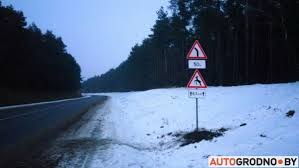1.11.2: (186, 36, 206, 57)
1.25: (189, 70, 206, 85)
